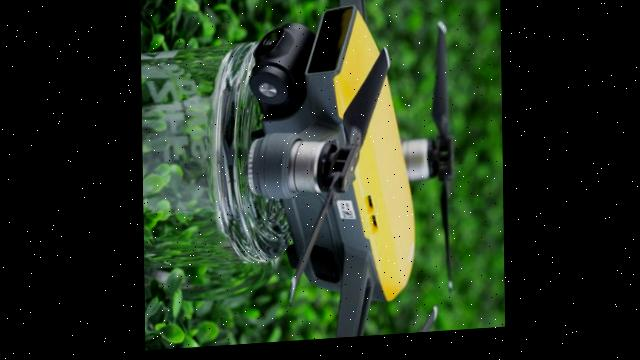drone: (190, 0, 504, 350)
